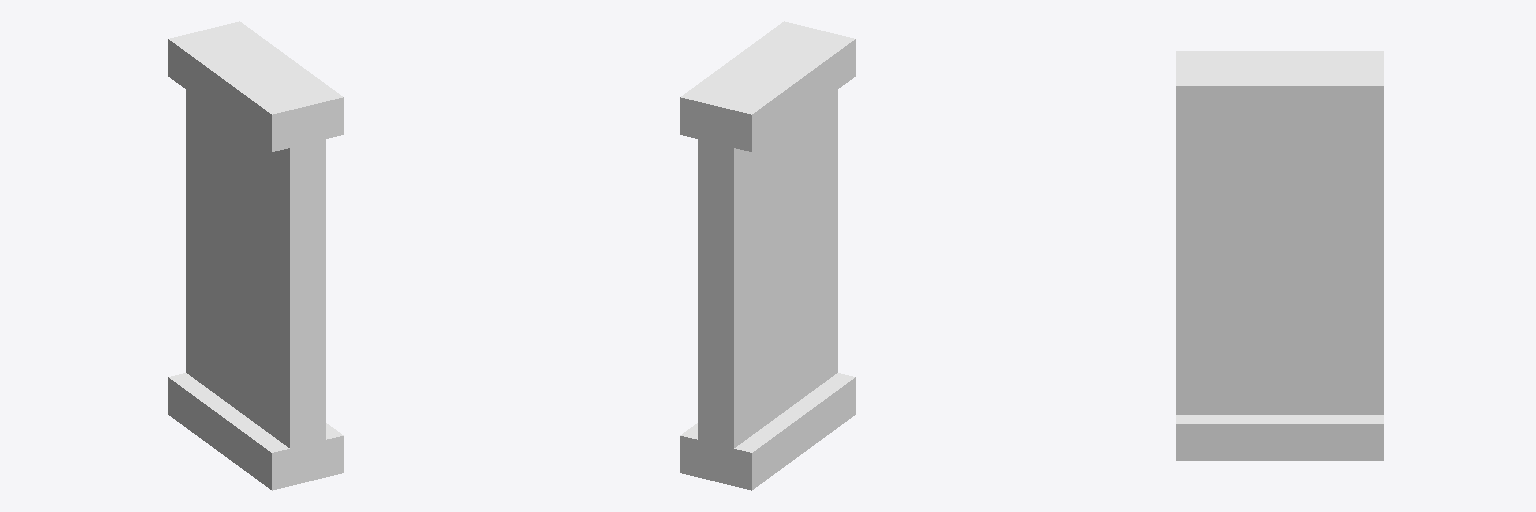
File: wall_short.obj
3 views of the same model, side by side, from view 1: azimuth 30°, elevation 25°; view 2: azimuth 150°, elevation 25°; view 3: azimuth 270°, elevation 25° (orthographic).
Visible parts, largest first — view 1: object 1; view 2: object 1; view 3: object 1.
Part boxes in pixels (x1,y1,x2,y2): object 1: (168, 21, 343, 490); object 1: (680, 21, 855, 490); object 1: (1176, 51, 1383, 460).
Bounding box in the file's own units: 0.4 × 2 × 1.